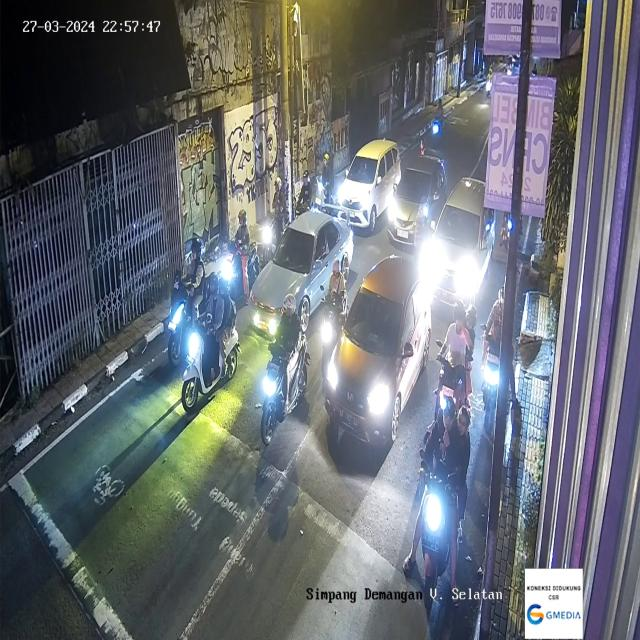car: (326, 253, 426, 456), (246, 212, 350, 338), (424, 175, 494, 313), (338, 135, 403, 231), (388, 151, 449, 242)
motorcycle: (417, 388, 469, 600), (186, 264, 247, 407), (261, 296, 306, 444), (433, 300, 474, 450), (169, 236, 209, 360), (486, 276, 516, 426), (219, 211, 260, 310), (321, 252, 350, 368), (260, 176, 290, 261), (318, 153, 340, 215), (295, 166, 315, 229), (433, 93, 444, 146)
